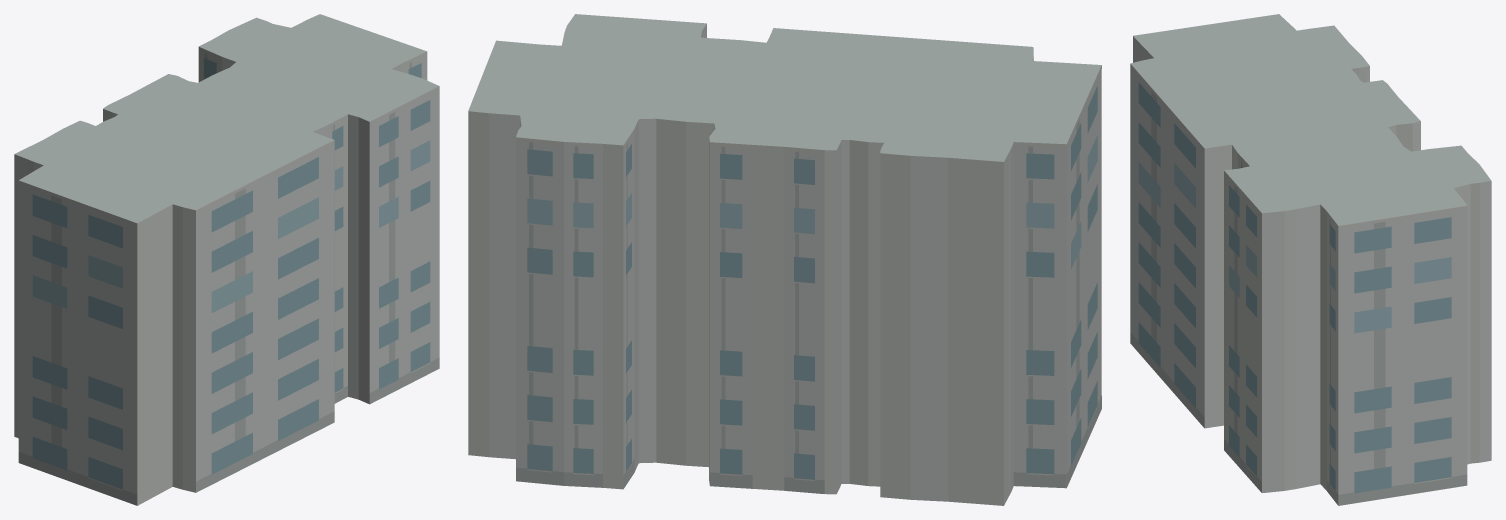
The model's file is survey-upis-32963007.glb.
The picture shows the model from 3 angles, left to right: view 1: azimuth 30°, elevation 25°; view 2: azimuth 150°, elevation 25°; view 3: azimuth 270°, elevation 25°; orthographic projection. The views are drawn at different scales.
Parts seen in each view (by area): view 1: survey-upis-32963007.tmp; view 2: survey-upis-32963007.tmp; view 3: survey-upis-32963007.tmp.
Boxes of the visible parts, x1=… form: survey-upis-32963007.tmp: x1=14, y1=14, x2=439, y2=505; survey-upis-32963007.tmp: x1=468, y1=14, x2=1101, y2=505; survey-upis-32963007.tmp: x1=1130, y1=14, x2=1491, y2=505.
Bounding box in the file's own units: 35.92 × 22.1 × 25.86.
